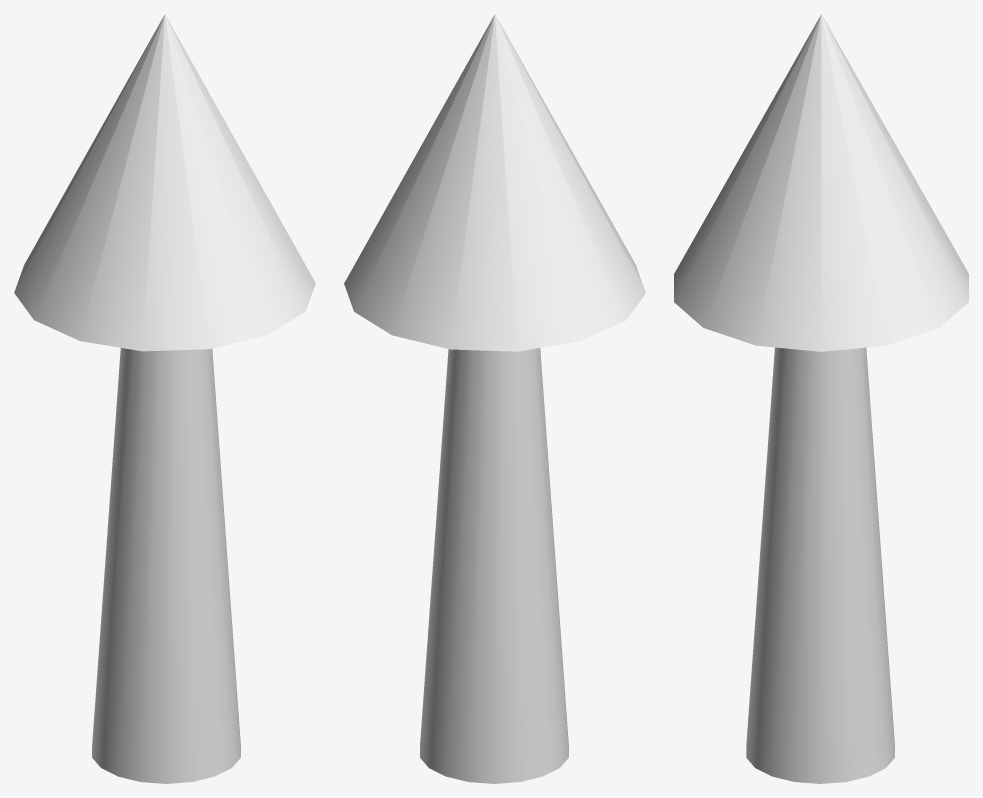
The model's file is arrow.FBX.
3 renders of one model, left to right at view 1: azimuth 30°, elevation 25°; view 2: azimuth 150°, elevation 25°; view 3: azimuth 270°, elevation 25°, orthographic.
Visible parts, largest first — view 1: Cone001; view 2: Cone001; view 3: Cone001.
Boxes of the visible parts, bbox=[...] form: Cone001: bbox=[14, 14, 315, 783]; Cone001: bbox=[344, 14, 645, 783]; Cone001: bbox=[674, 14, 968, 783].
Size of the model in its own units: 15.75 by 42.39 by 15.35.
Materials: 1 (1 with a texture image).
